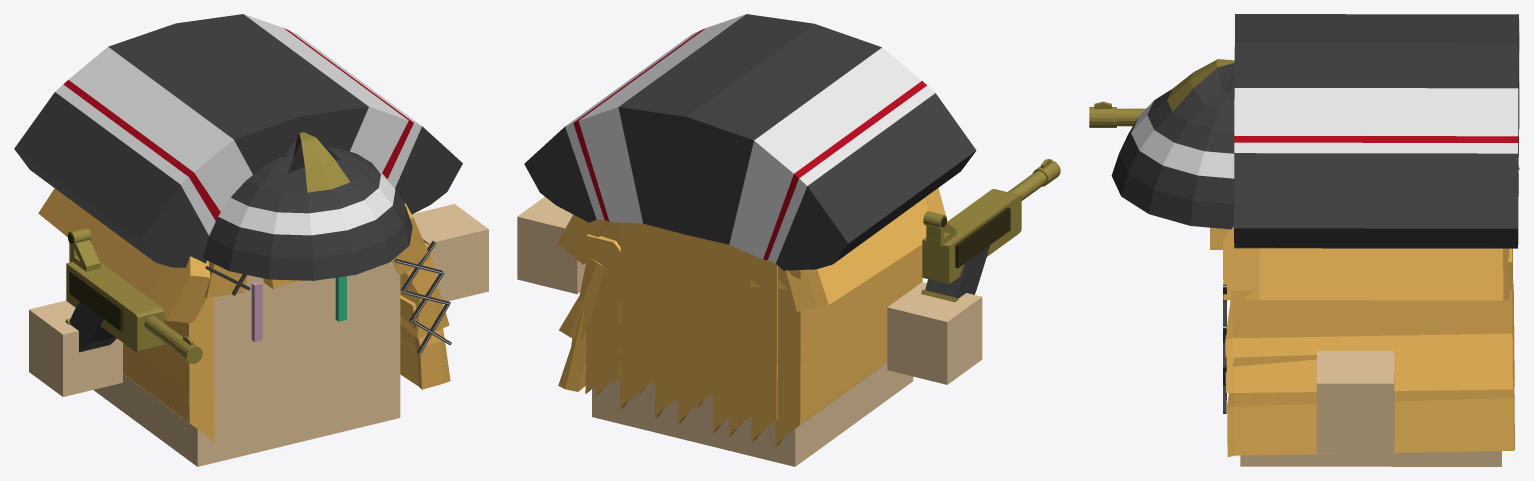
Rendered from Stora_Select.fbx.
3 views of the same model, side by side, from view 1: azimuth 30°, elevation 25°; view 2: azimuth 150°, elevation 25°; view 3: azimuth 270°, elevation 25° (orthographic). The views are drawn at different scales.
Parts seen in each view (by area): view 1: Cube.005, Cube.003, Sphere, Cube.020, Cube.089, Cube.008, Cube.017, Cube, Cube.007, Cube.001, Cube.014, Cube.011 (+5 smaller); view 2: Cube.005, Cube.089, Cube.008, Cube.002, Cube.020, Cube.017, Cube.084, Cube.085, Cube.088, Cube.081, Cube.003, Cube (+12 smaller); view 3: Cube.005, Cube.001, Sphere, Cube.021, Cube.007, Cube.017, Cube.002, Cylinder.001.
Boxes of the visible parts, left/top/right/bottom form: Cube.005: left=14, top=14, right=462, bottom=267; Cube.003: left=94, top=261, right=400, bottom=466; Sphere: left=203, top=132, right=412, bottom=280; Cube.020: left=38, top=188, right=210, bottom=323; Cube.089: left=69, top=243, right=214, bottom=444; Cube.008: left=29, top=300, right=122, bottom=396; Cube.017: left=412, top=204, right=488, bottom=301; Cube: left=66, top=262, right=164, bottom=351; Cube.007: left=400, top=295, right=450, bottom=389; Cube.001: left=400, top=242, right=449, bottom=338; Cube.014: left=69, top=271, right=123, bottom=331; Cube.011: left=69, top=302, right=116, bottom=352; Cube.005: left=524, top=14, right=976, bottom=270; Cube.089: left=775, top=244, right=922, bottom=446; Cube.008: left=887, top=282, right=982, bottom=384; Cube.002: left=592, top=378, right=795, bottom=466; Cube.020: left=786, top=188, right=947, bottom=311; Cube.017: left=517, top=196, right=585, bottom=293; Cube.084: left=655, top=227, right=680, bottom=418; Cube.085: left=713, top=241, right=738, bottom=432; Cube.088: left=751, top=255, right=777, bottom=441; Cube.081: left=619, top=222, right=648, bottom=409; Cube.003: left=795, top=362, right=913, bottom=466; Cube: left=922, top=189, right=1021, bottom=284; Cube.005: left=1234, top=14, right=1519, bottom=248; Cube.001: left=1225, top=282, right=1514, bottom=392; Sphere: left=1111, top=59, right=1234, bottom=229; Cube.021: left=1223, top=226, right=1509, bottom=300; Cube.007: left=1227, top=352, right=1514, bottom=456; Cube.017: left=1316, top=351, right=1394, bottom=453; Cube.002: left=1240, top=451, right=1501, bottom=466; Cylinder.001: left=1089, top=107, right=1116, bottom=127.
Bounding box in the file's own units: 4.22 × 3.29 × 3.1.
